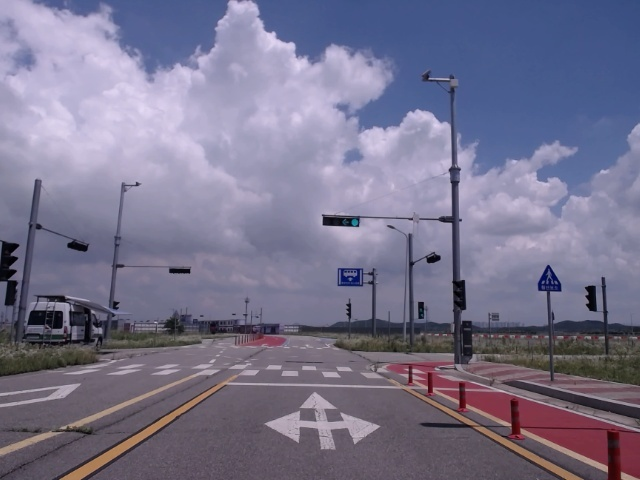all_green_4: (323, 217, 361, 227)
